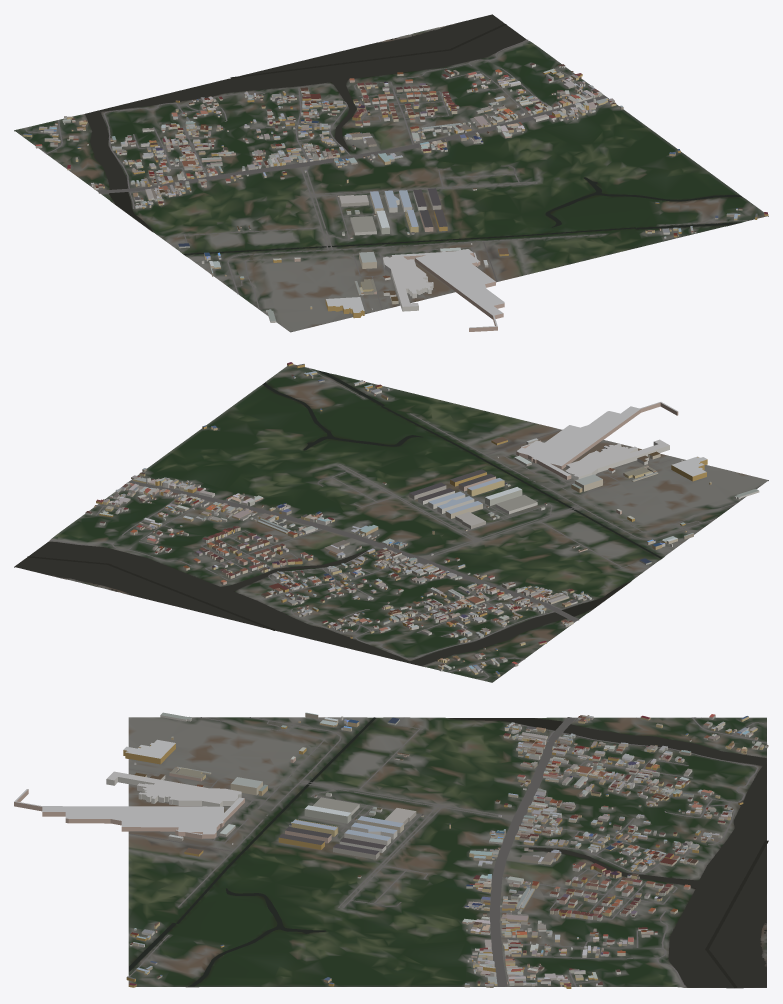
3 views of the same model, one above another, from view 1: azimuth 30°, elevation 25°; view 2: azimuth 150°, elevation 25°; view 3: azimuth 270°, elevation 25° (orthographic). The views are drawn at different scales.
Visible parts, largest first — view 1: ground, buildings, water, roads; view 2: ground, buildings, water, roads; view 3: ground, buildings, water, roads.
Part boxes in pixels (<box>): ground: <box>14,23,768,332</box>; buildings: <box>23,63,768,331</box>; water: <box>85,14,742,254</box>; roads: <box>25,39,751,309</box>; ground: <box>14,364,768,682</box>; buildings: <box>85,362,759,676</box>; water: <box>15,370,662,665</box>; roads: <box>49,367,737,679</box>; ground: <box>128,717,766,988</box>; buildings: <box>14,712,768,988</box>; water: <box>129,717,768,988</box>; roads: <box>129,717,766,987</box>.
Bounding box in the file's own units: 1424 × 24.07 × 1656.
